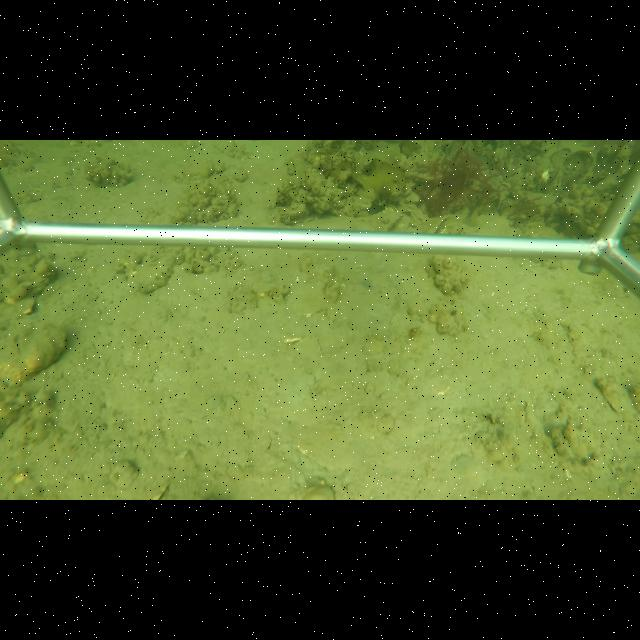Oyster-Closed: (9, 322, 71, 385), (386, 213, 406, 231)
